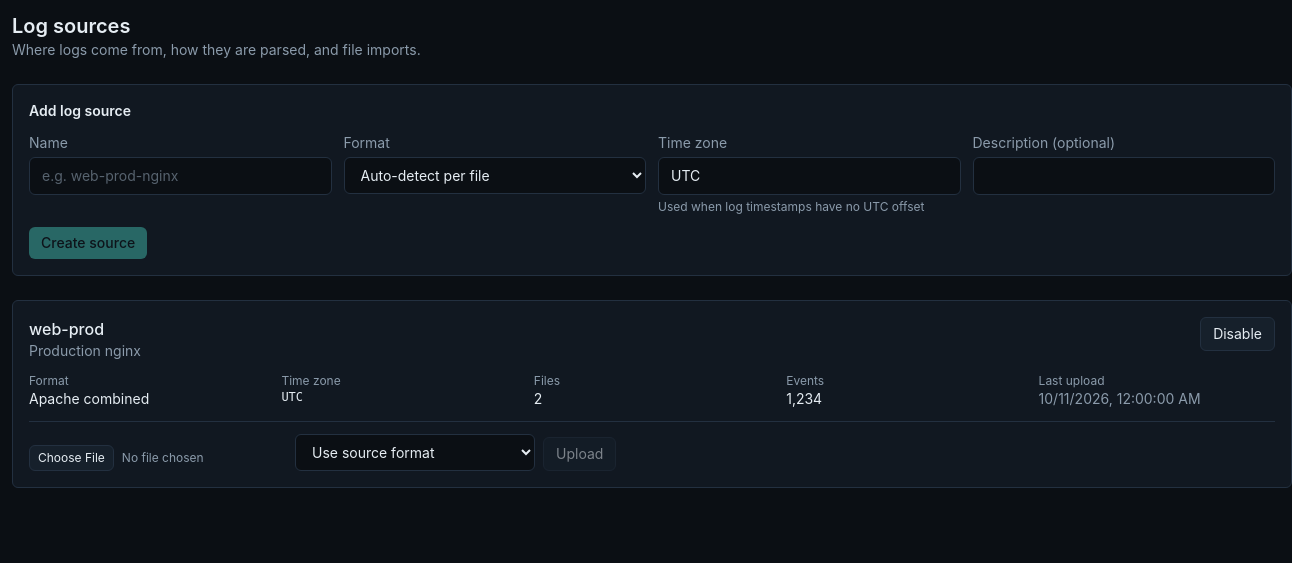
Scenario: SourcesPage › shows server validation errors when creating a source
Type "web-prod" into the field labelled "Name" at (180, 176), box [29,157,332,195]
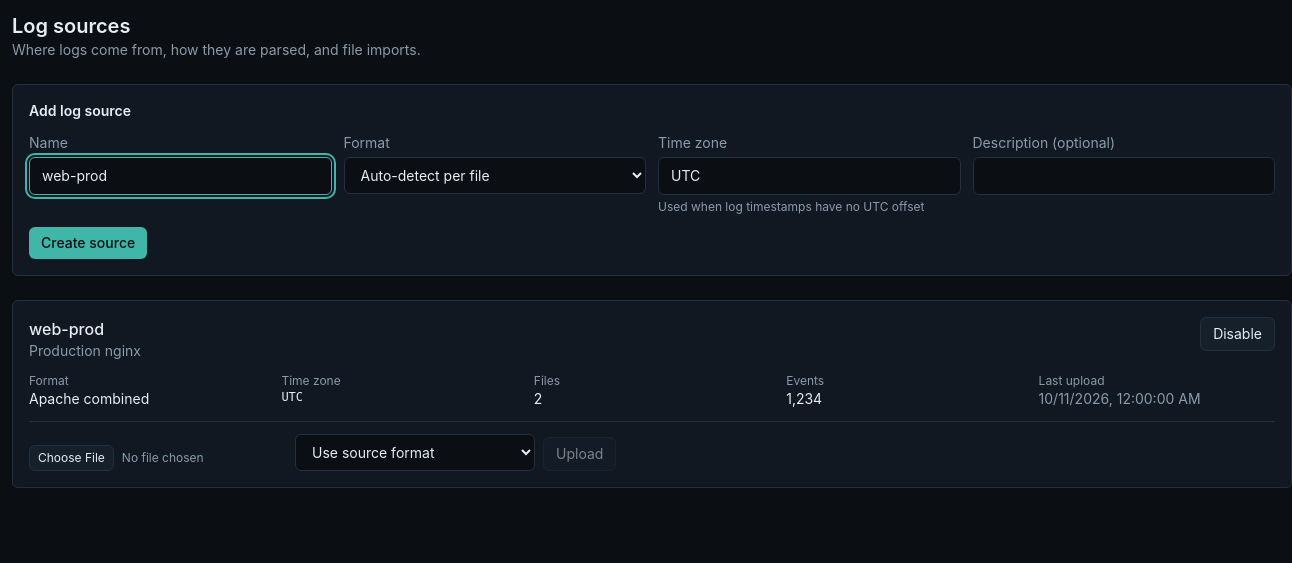
Click the button "Create source" at (88, 243), box [29,227,147,259]
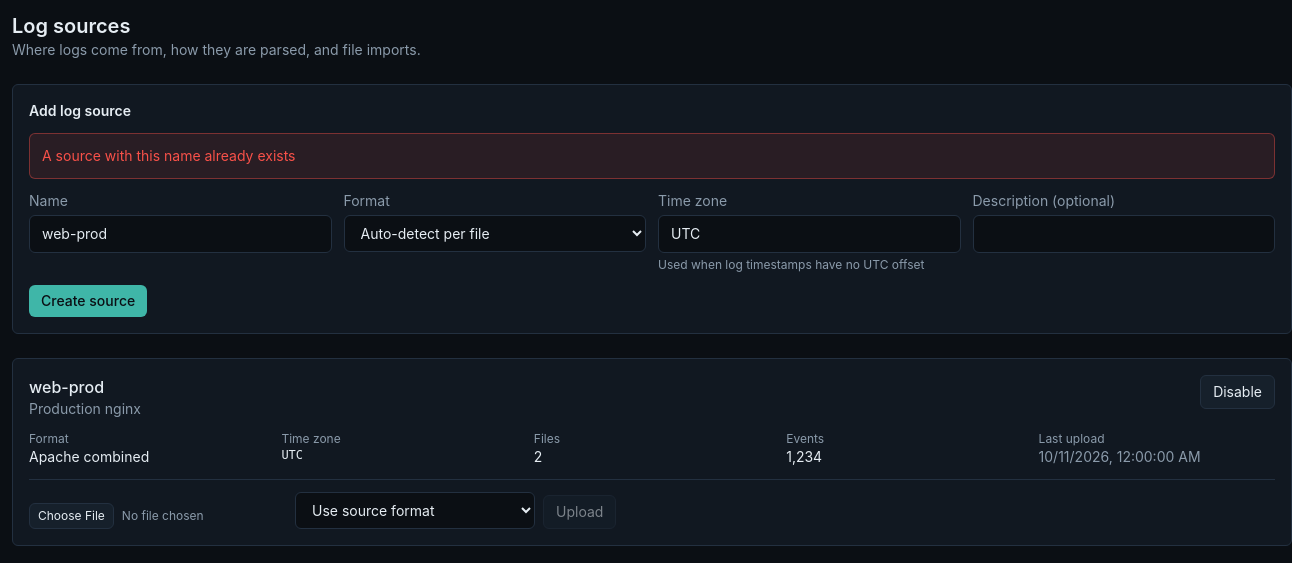
expect the message shows "already exists": met, box [42,147,296,164]
